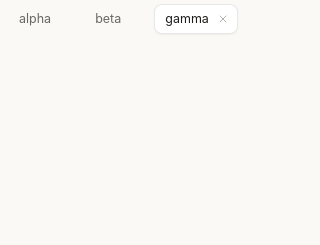
Scenario: TabBar context menu › opens the context menu on right-click with all standard entries
This screenshot has width=320, height=245.
Right-click the tab "beta" at (108,19), box [95,11,121,26]
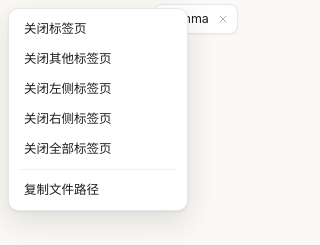
expect the text "关闭标签页" is shown: met, box [24,21,86,36]
expect the text "关闭其他标签页" is shown: met, box [24,51,112,66]
expect the text "关闭左侧标签页" is shown: met, box [24,81,112,96]
